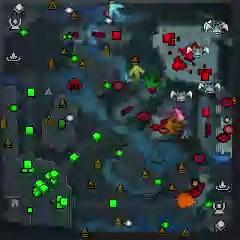p5: (177, 192, 197, 210)
x1: (173, 107, 185, 123)
x2: (128, 66, 145, 83)
x3: (109, 3, 123, 17)
x4: (145, 72, 158, 89)
x5Clone: (165, 117, 184, 134)
